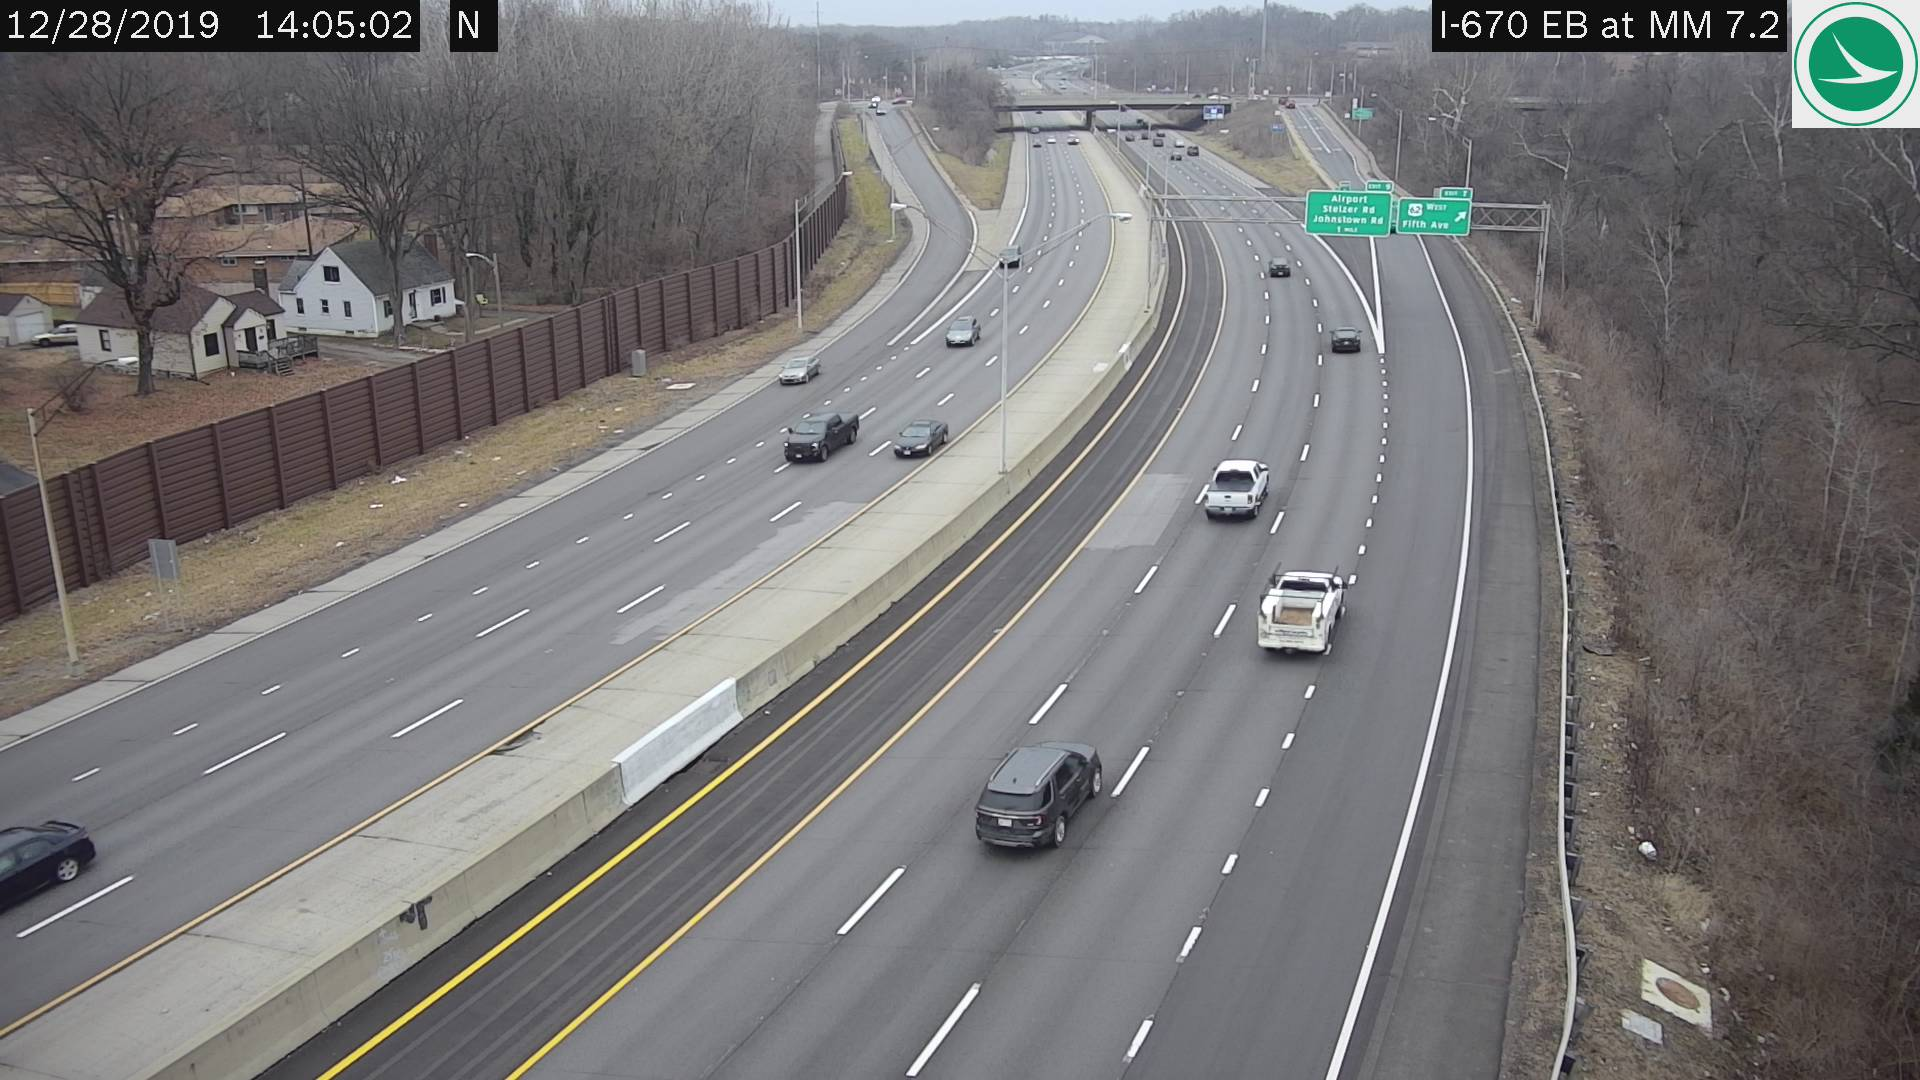car: (975, 740, 1098, 852), (7, 816, 94, 913), (1258, 568, 1342, 647), (786, 407, 862, 464), (1207, 456, 1266, 520), (894, 415, 945, 456), (945, 313, 978, 344), (778, 356, 814, 384), (1331, 324, 1358, 348), (1270, 256, 1290, 276), (998, 244, 1018, 264)
